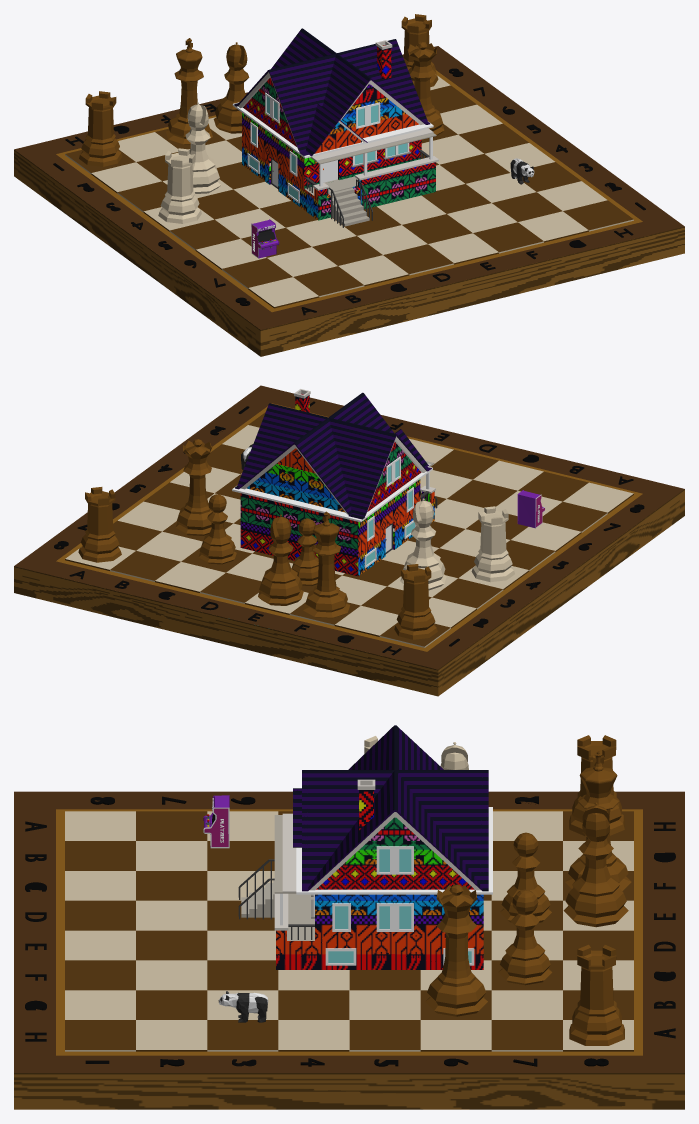
The picture shows the model from 3 angles, top to bottom: view 1: azimuth 30°, elevation 25°; view 2: azimuth 150°, elevation 25°; view 3: azimuth 270°, elevation 25°; orthographic projection. The views are drawn at different scales.
Visible parts, largest first — view 1: Cube.002, Cube.966, OBJRANDOM_ARCADE; view 2: Cube.002, Cube.966, OBJRANDOM_ARCADE; view 3: Cube.002, Cube.966, OBJRANDOM_ARCADE, ANIMAL_PANDA.
Part boxes in pixels (bbox=[...]): Cube.002: bbox=[14, 14, 684, 356]; Cube.966: bbox=[232, 28, 438, 227]; OBJRANDOM_ARCADE: bbox=[251, 219, 279, 258]; Cube.002: bbox=[14, 385, 684, 696]; Cube.966: bbox=[232, 389, 437, 576]; OBJRANDOM_ARCADE: bbox=[517, 490, 545, 528]; Cube.002: bbox=[14, 735, 684, 1109]; Cube.966: bbox=[238, 725, 492, 969]; OBJRANDOM_ARCADE: bbox=[203, 795, 229, 848]; ANIMAL_PANDA: bbox=[218, 991, 268, 1022].
Bounding box in the file's own units: 3981 × 1462 × 4012.
36 materials, 6 textured.
